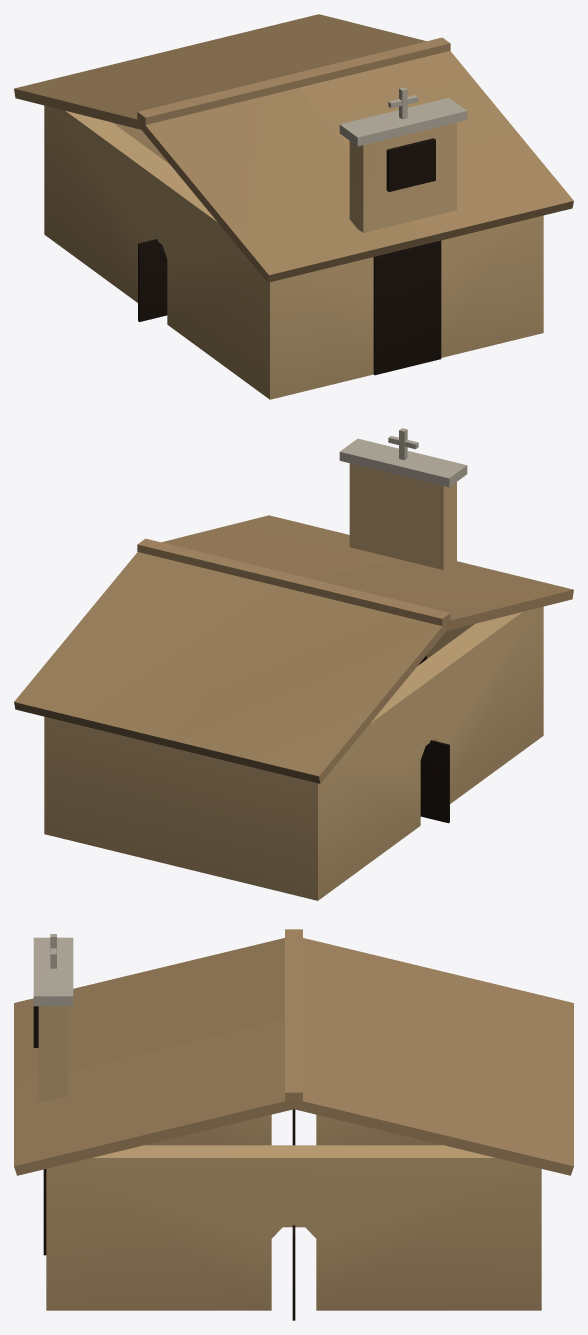
File: republic_chapel_lod1.glb
3 renders of one model, top to bottom at view 1: azimuth 30°, elevation 25°; view 2: azimuth 150°, elevation 25°; view 3: azimuth 270°, elevation 25°, orthographic. The views are drawn at different scales.
Parts seen in each view (by area): view 1: GEO-Arch_republic_chapel_LOD1; view 2: GEO-Arch_republic_chapel_LOD1; view 3: GEO-Arch_republic_chapel_LOD1.
Boxes of the visible parts, bbox=[...] form: GEO-Arch_republic_chapel_LOD1: bbox=[14, 14, 573, 399]; GEO-Arch_republic_chapel_LOD1: bbox=[14, 428, 573, 900]; GEO-Arch_republic_chapel_LOD1: bbox=[14, 929, 573, 1320].
Size of the model in its own units: 7.94 by 6.72 by 11.3.
